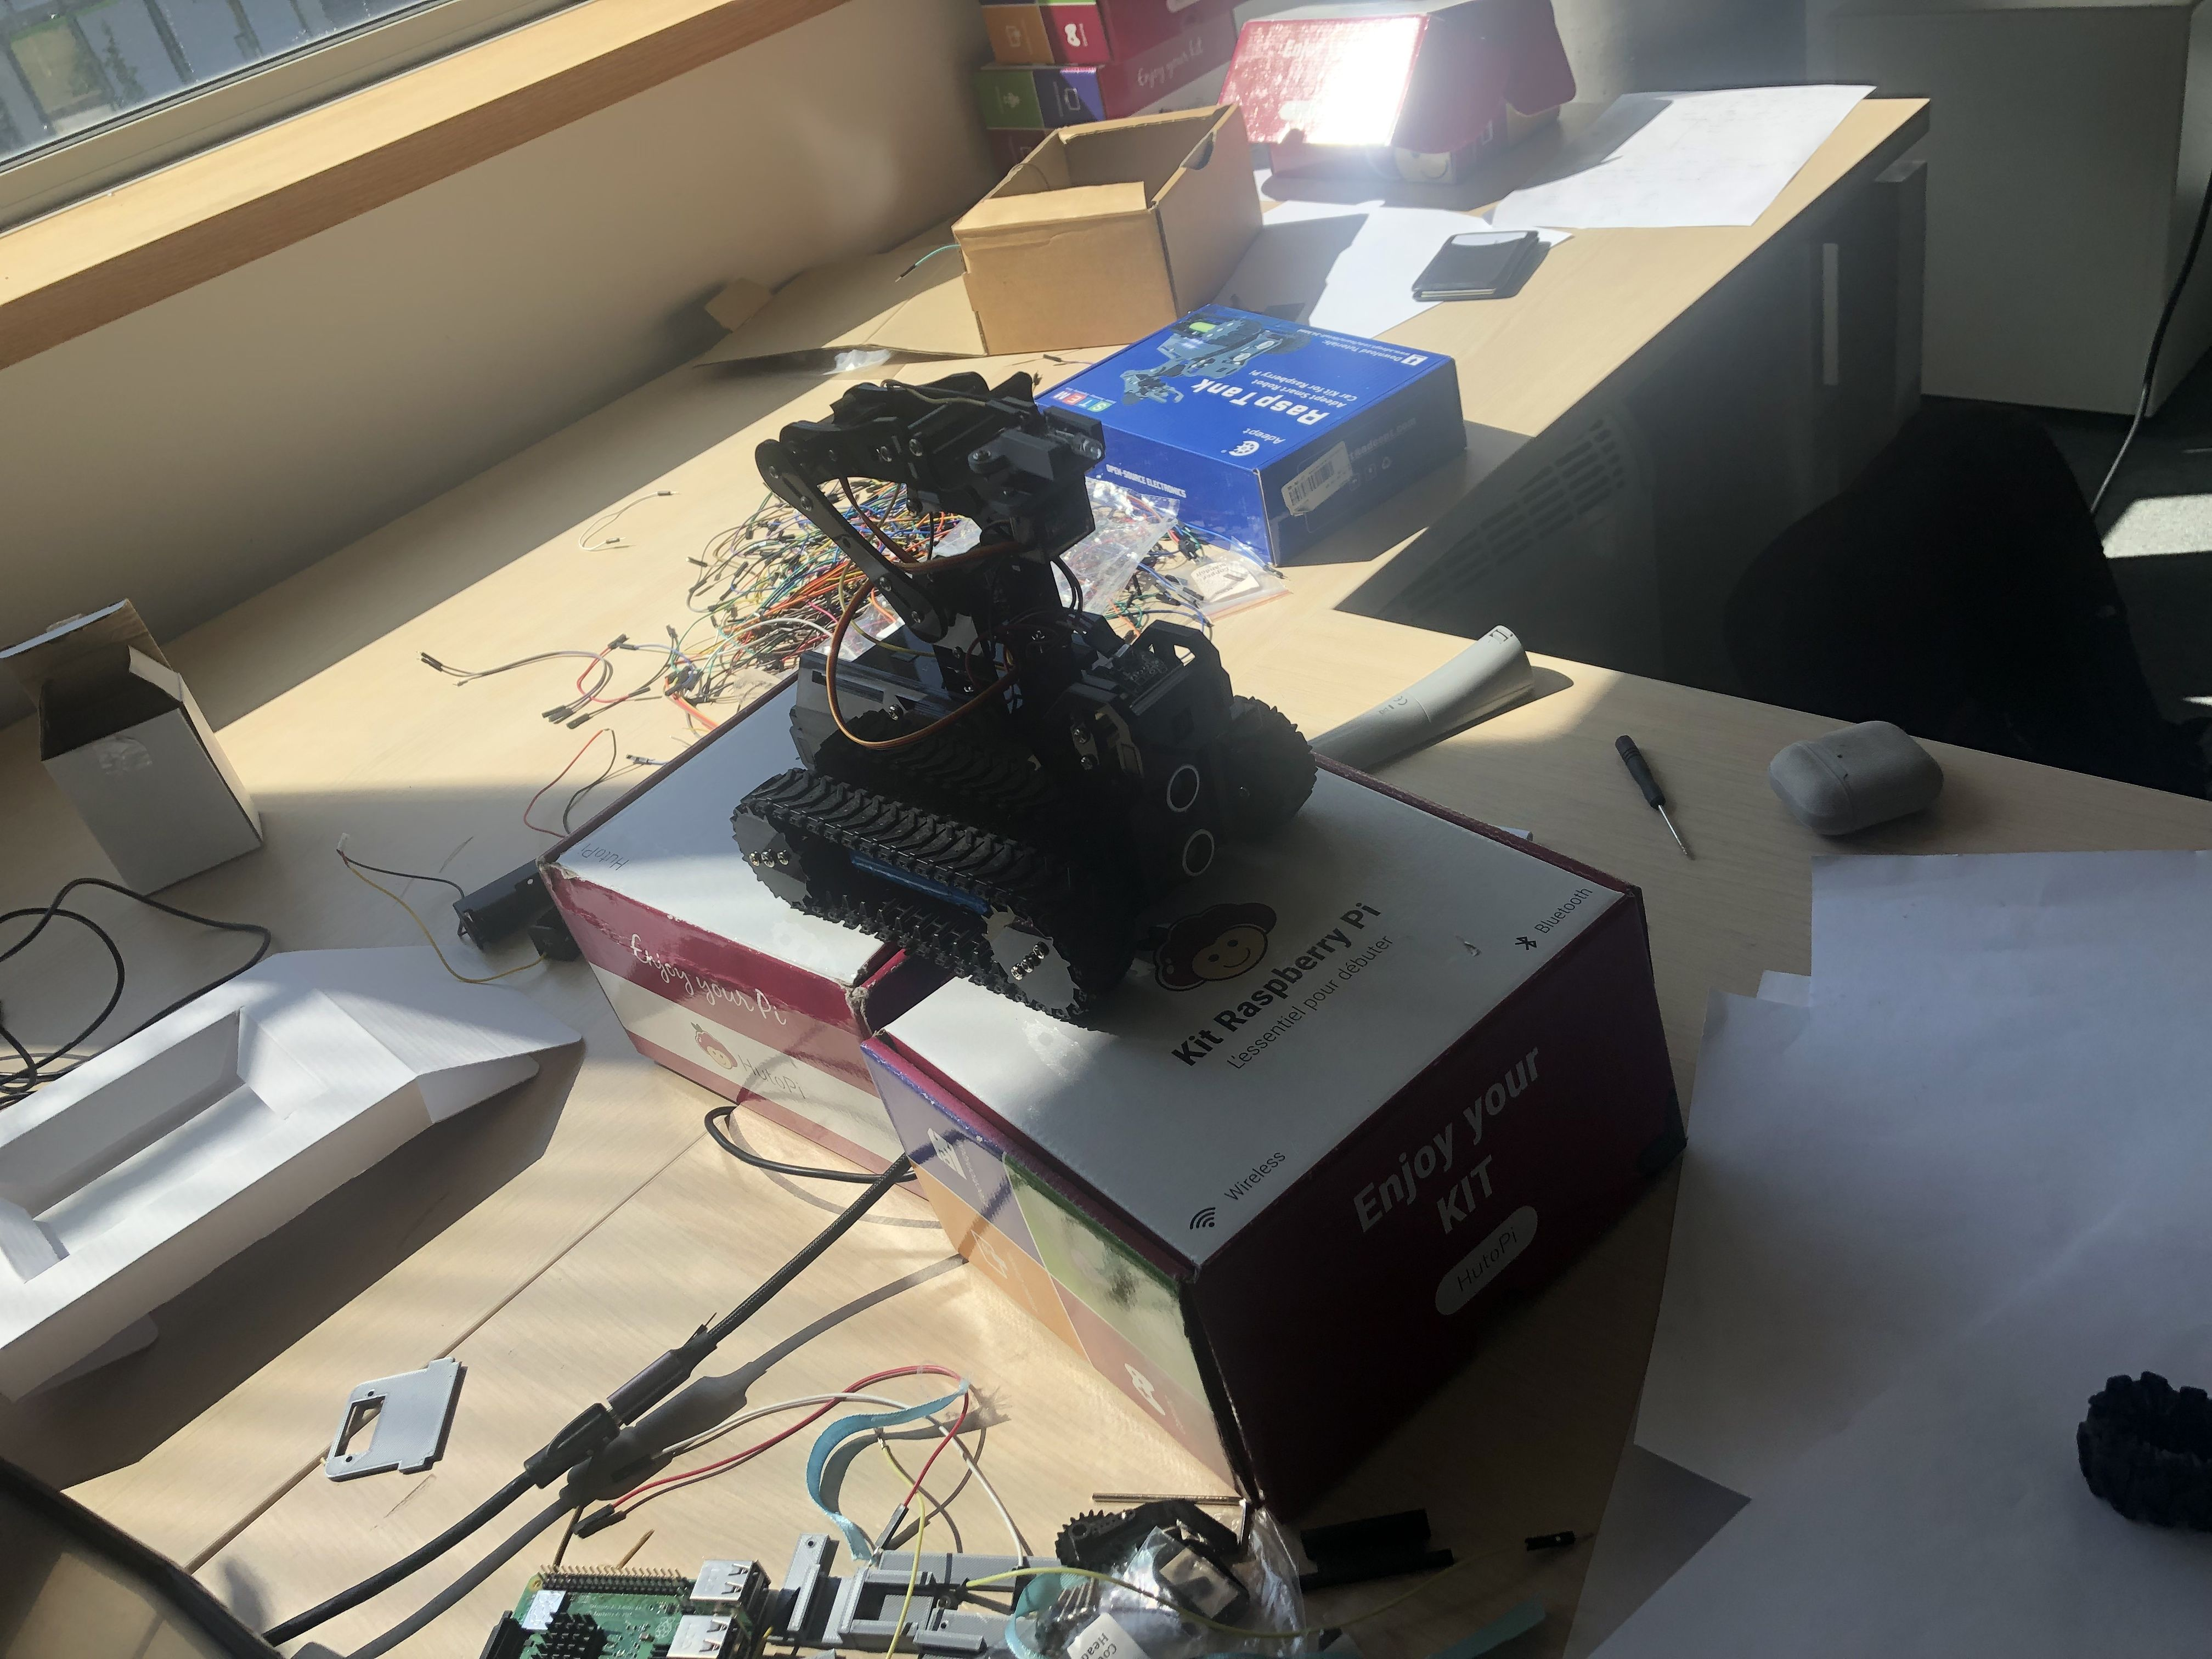rasptank: (723, 350, 1329, 1044)
